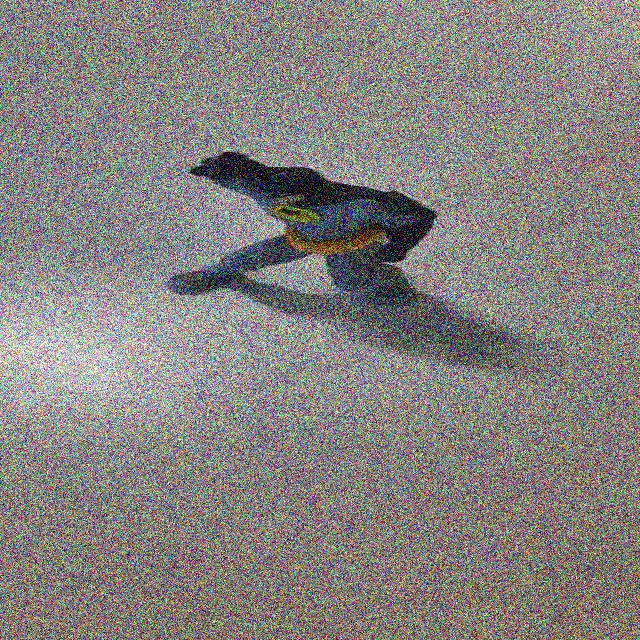Batman: (143, 125, 477, 335)
